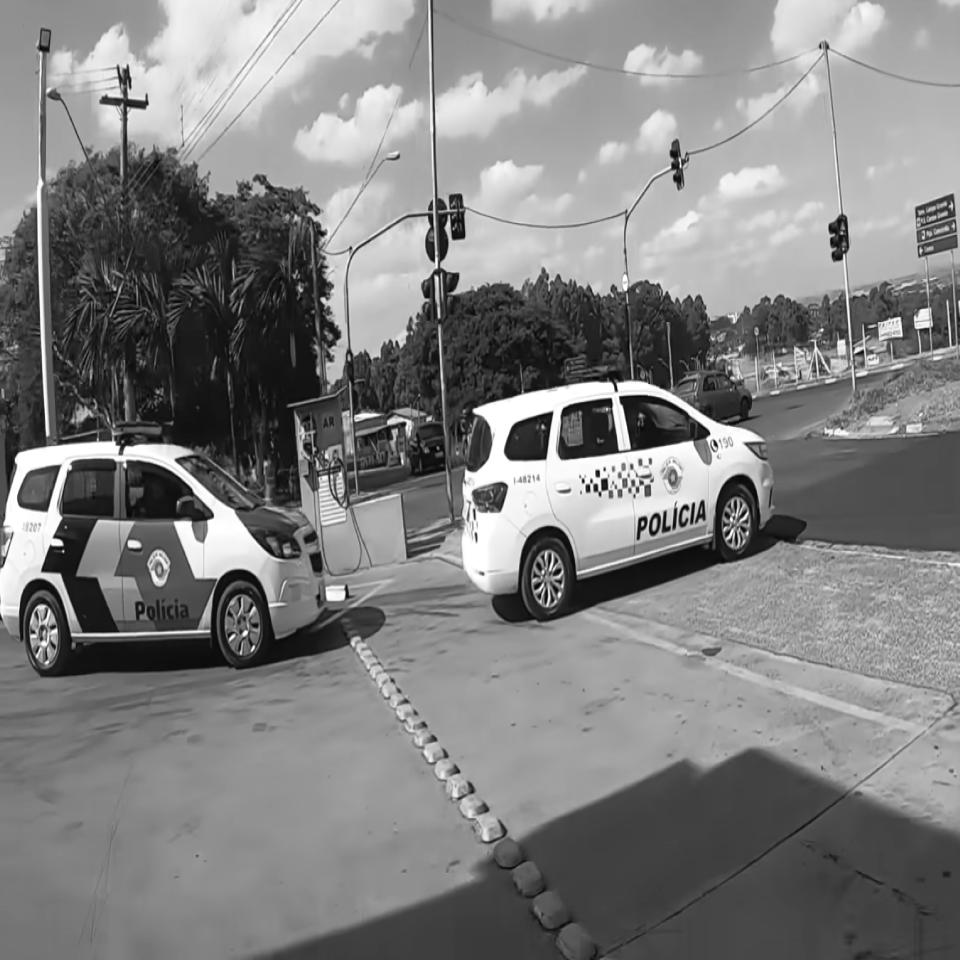viatura: (456, 360, 779, 623), (0, 424, 332, 666)
